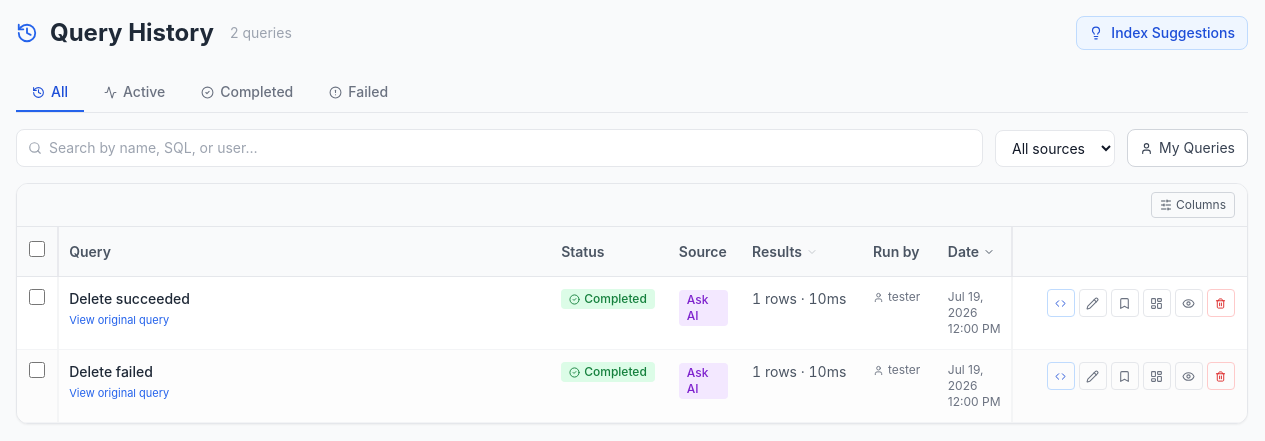
Scenario: History deletion concurrency › keeps the partial batch failure notice after successful reconciliation
expect the text "Delete succeeded" is shown: met, box [69,290,190,307]
Click the checkbox titled "Select all deletable rows".
click(37, 249)  # box [29,241,45,257]
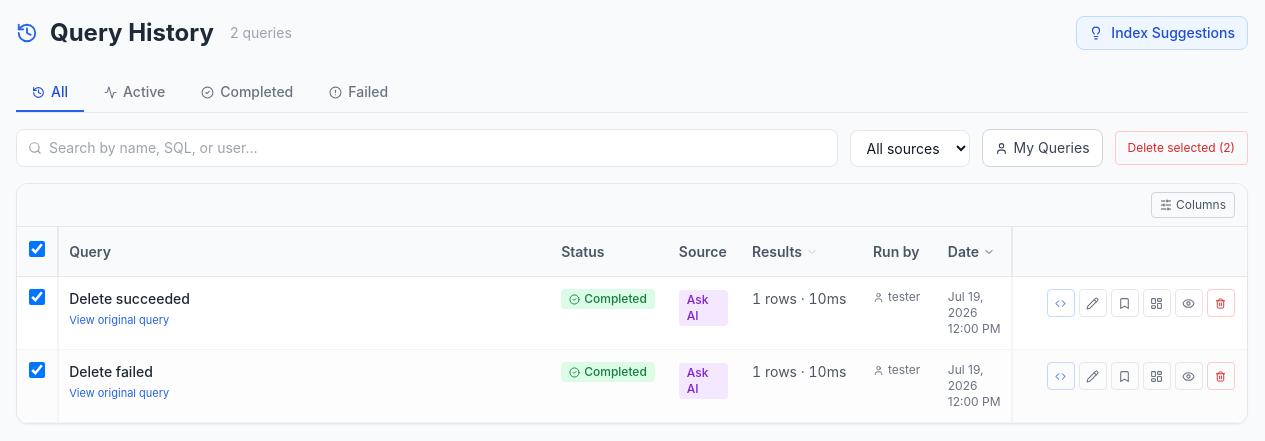
Click the button "Delete selected (2)".
click(1181, 148)  # box [1114,131,1248,165]
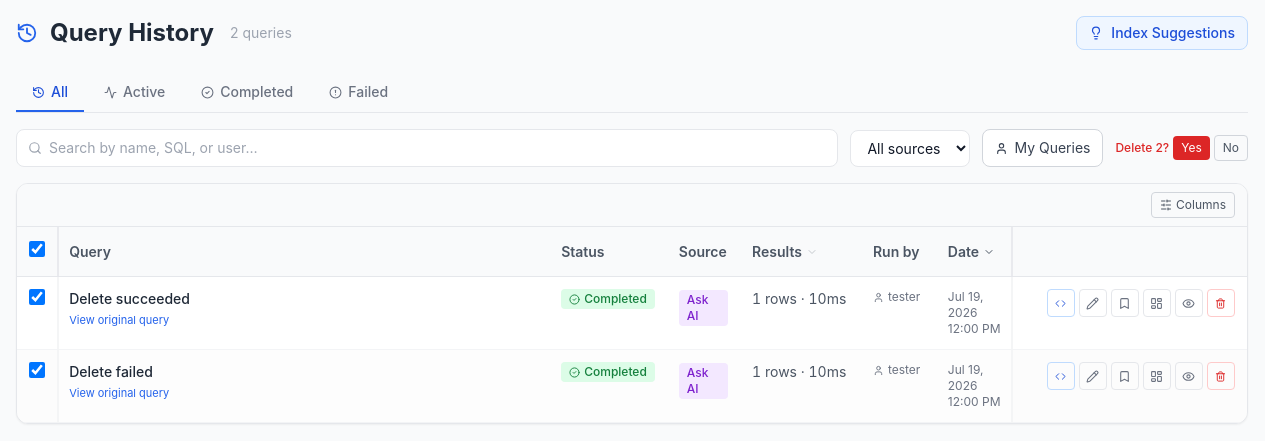
Click the button "Yes".
click(1192, 148)  # box [1173,136,1210,160]
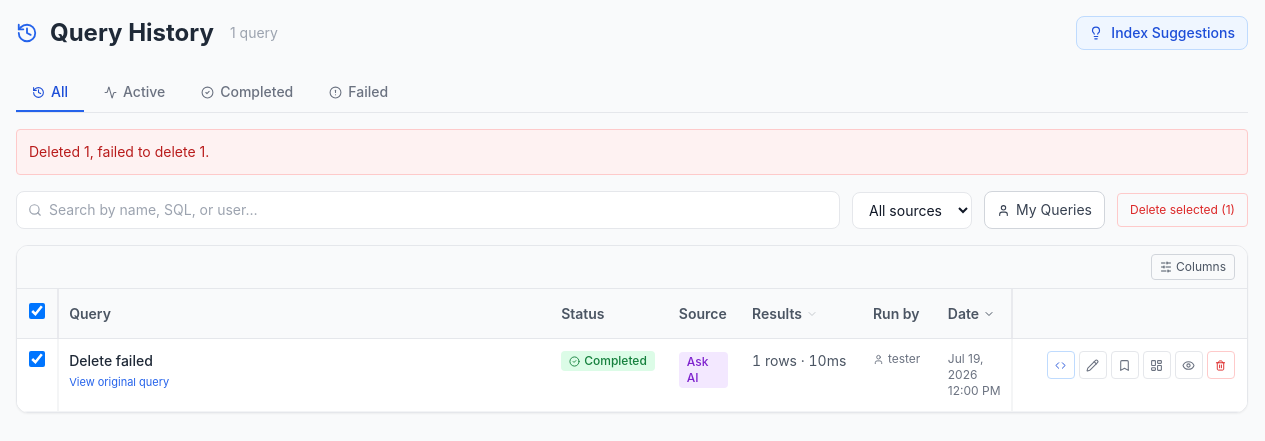
expect the text "Delete failed" is shown: met, box [69,352,153,369]
expect the text "Deleted 1, failed to delete 1." is shown: met, box [16,129,1248,175]
expect the text "1 query" is shown: met, box [230,23,278,43]
